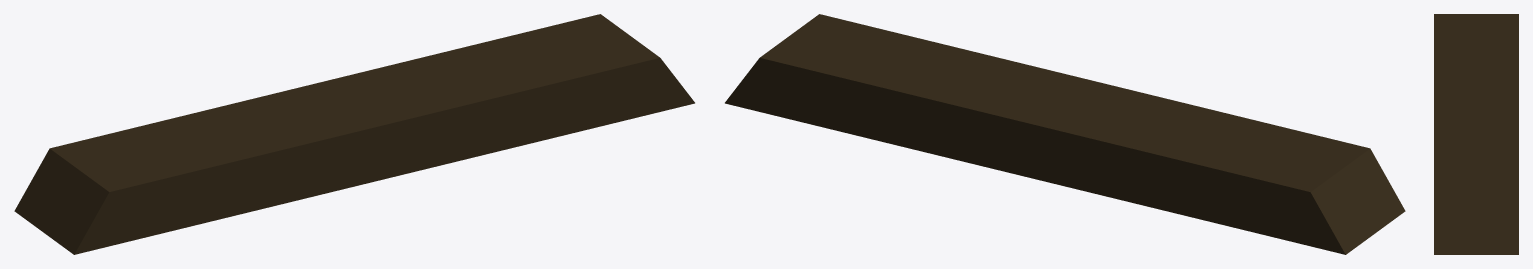
The model's file is CoasterTroncon_2.FBX.
3 renders of one model, left to right at view 1: azimuth 30°, elevation 25°; view 2: azimuth 150°, elevation 25°; view 3: azimuth 270°, elevation 25°, orthographic. The views are drawn at different scales.
Visible parts, largest first — view 1: 0000; view 2: 0000; view 3: 0000.
Part boxes in pixels (x1,y1,x2,y2): 0000: (14, 14, 694, 254); 0000: (725, 14, 1405, 254); 0000: (1434, 14, 1518, 254).
Bounding box in the file's own units: 1.2 × 0.2 × 0.1.
